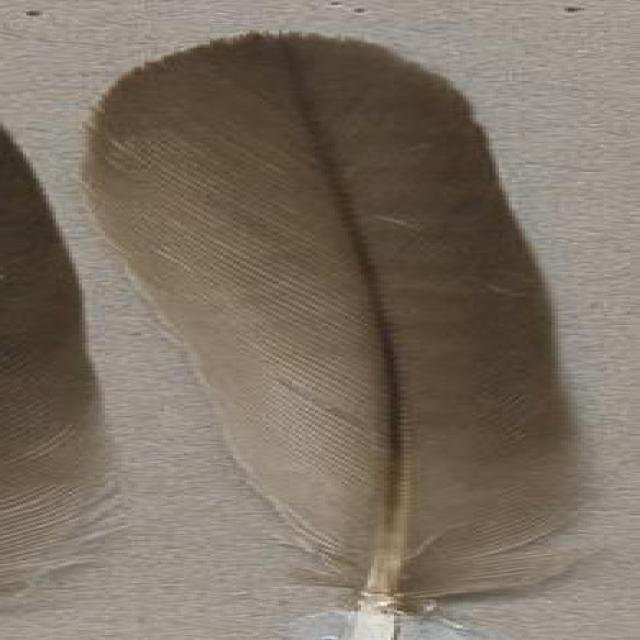feather: (92, 33, 610, 640)
